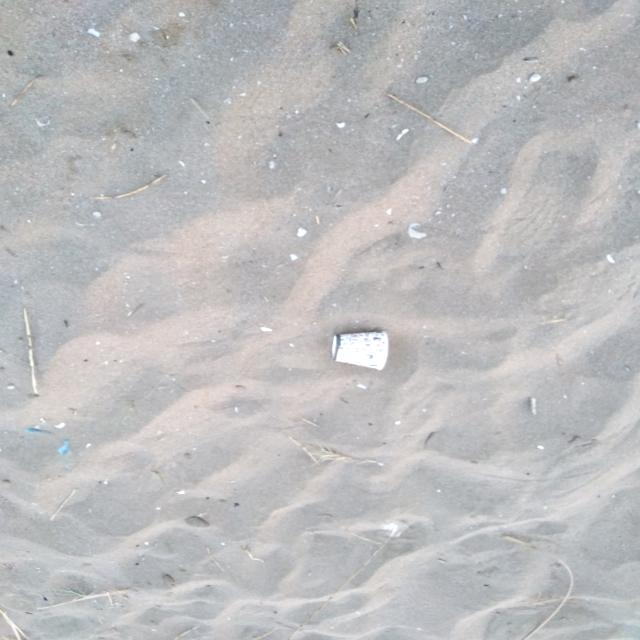Paper cup: (331, 331, 387, 369)
Unlabeled litter: (59, 440, 71, 454), (26, 428, 52, 434)
